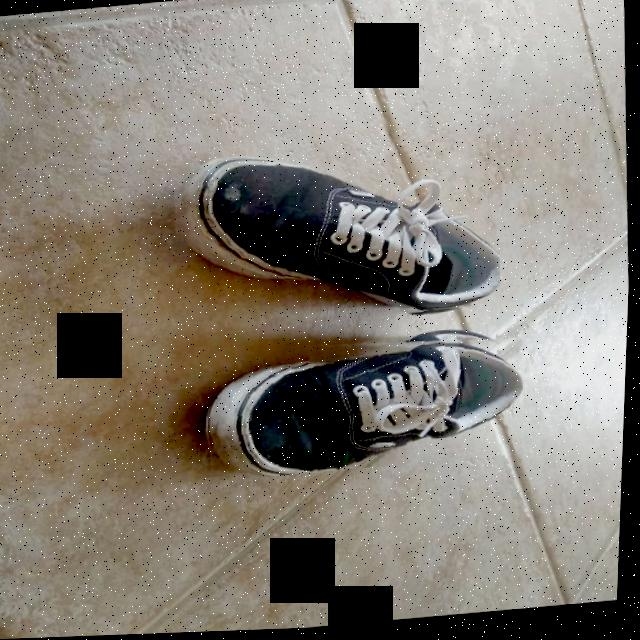shoe: (170, 137, 508, 339), (201, 325, 532, 484)
